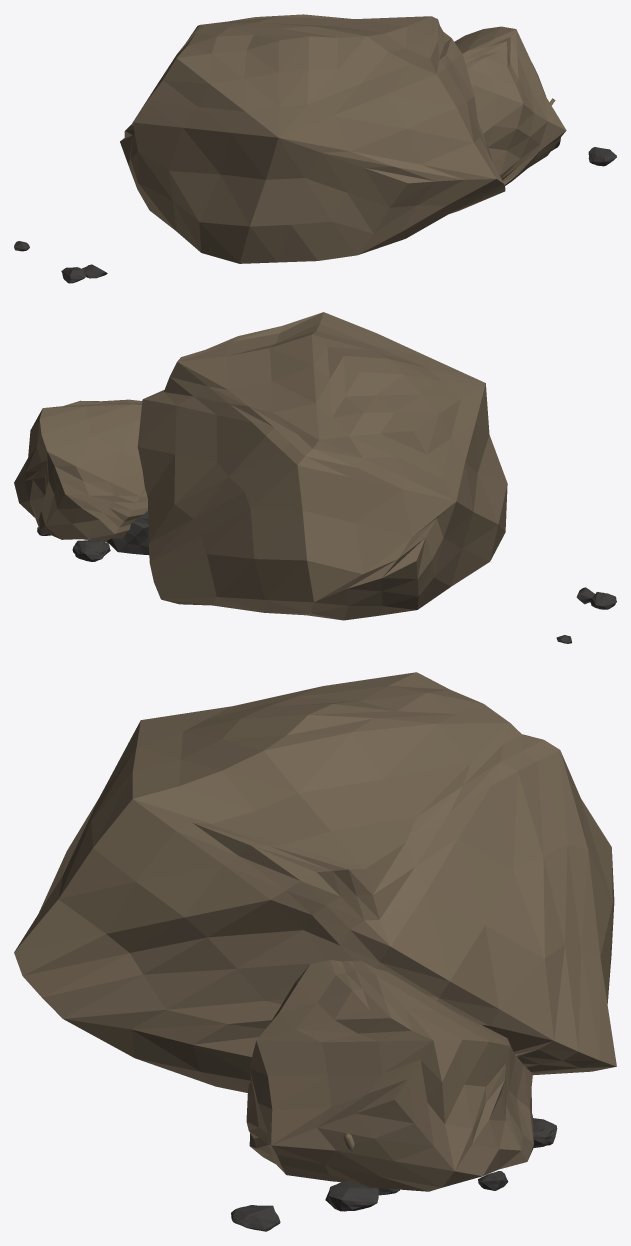
File: cover_rock_0.glb
3 renders of one model, top to bottom at view 1: azimuth 30°, elevation 25°; view 2: azimuth 150°, elevation 25°; view 3: azimuth 270°, elevation 25°, orthographic. The views are drawn at different scales.
Parts seen in each view (by area): view 1: rock_0, rock_1, grit_1; view 2: rock_0, rock_1, rock_2, grit_2; view 3: rock_0, rock_1, grit_0, grit_1.
Boxes of the visible parts, x1,y1,x2,y2 form: rock_0: (120,14,505,263); rock_1: (454,26,566,185); grit_1: (588,147,616,166); rock_0: (137,312,507,620); rock_1: (14,399,147,541); rock_2: (106,511,149,555); grit_2: (72,540,110,561); rock_0: (14,672,616,1092); rock_1: (246,960,533,1191); grit_0: (325,1180,378,1211); grit_1: (231,1205,280,1231).
Size of the model in its own units: 2.93 by 0.9858 by 1.74.
